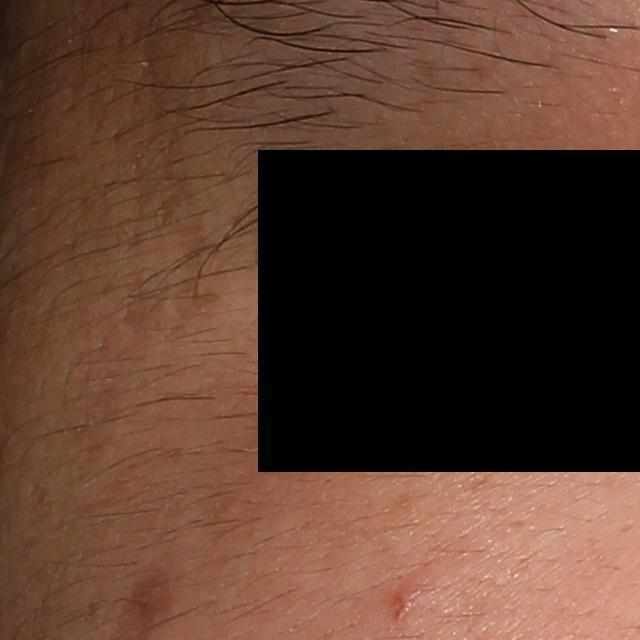papule: (389, 580, 425, 615)
